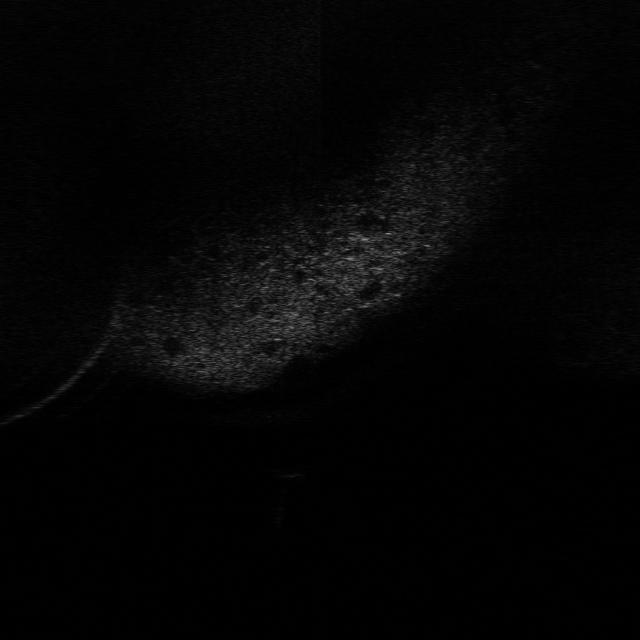cube: (261, 452, 317, 481)
